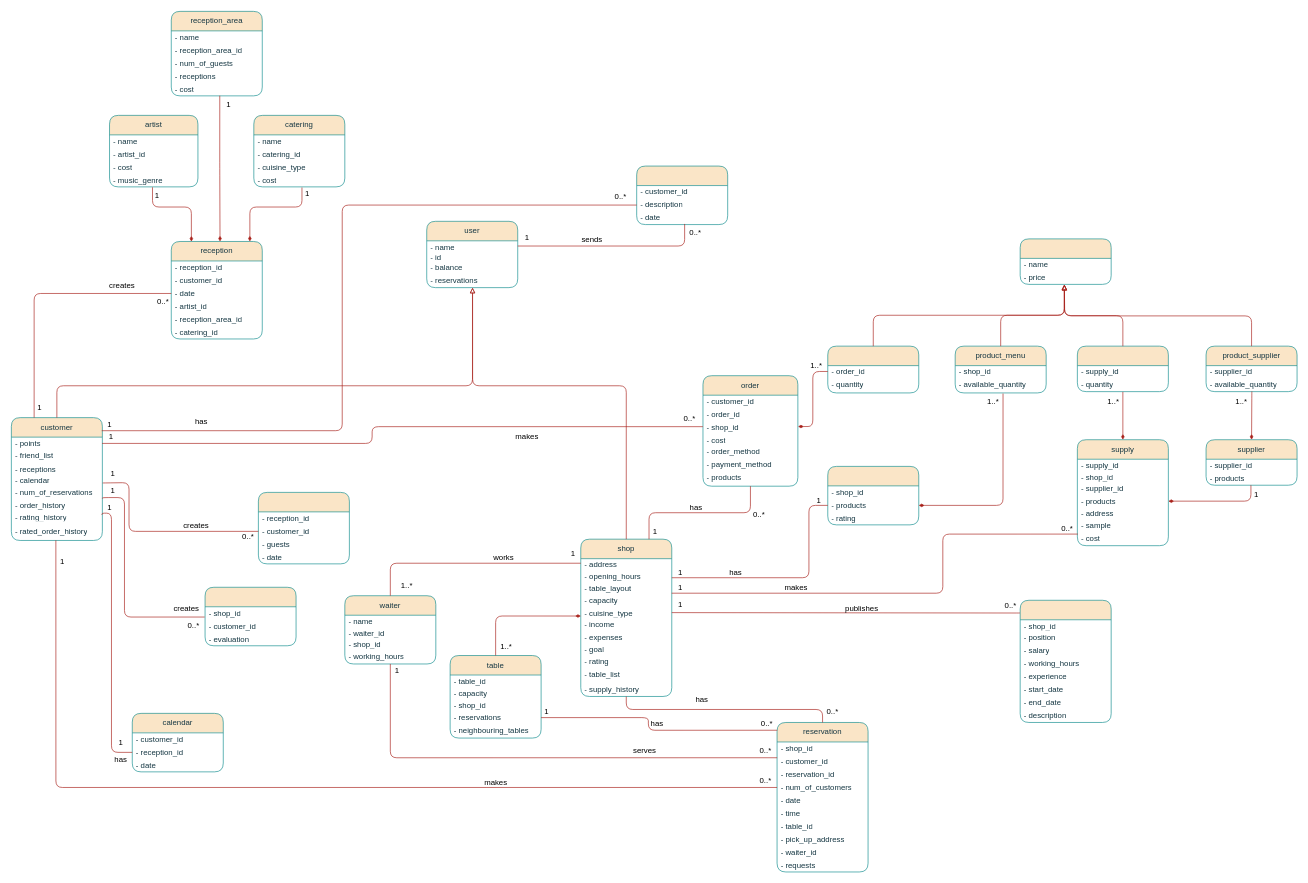
This 1308x883 diagram has some shape labels left out. The shapes that lost their labels are listed below. From the top down, each one's box as (x1, y1, x2, y2) in pixels, then its label:
(636, 165, 728, 225): notification
(1020, 238, 1111, 284): product
(827, 345, 919, 393): product_order
(1077, 345, 1168, 392): product_supply
(827, 466, 919, 525): menu
(258, 492, 349, 564): invitation
(204, 587, 296, 646): rating
(1020, 600, 1111, 722): job_offer
